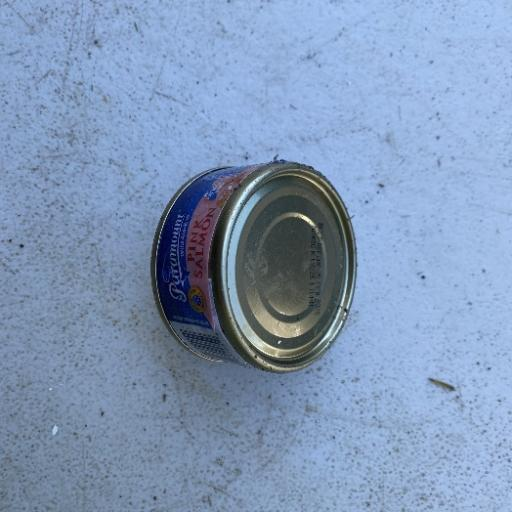Metal: (148, 158, 358, 376)
